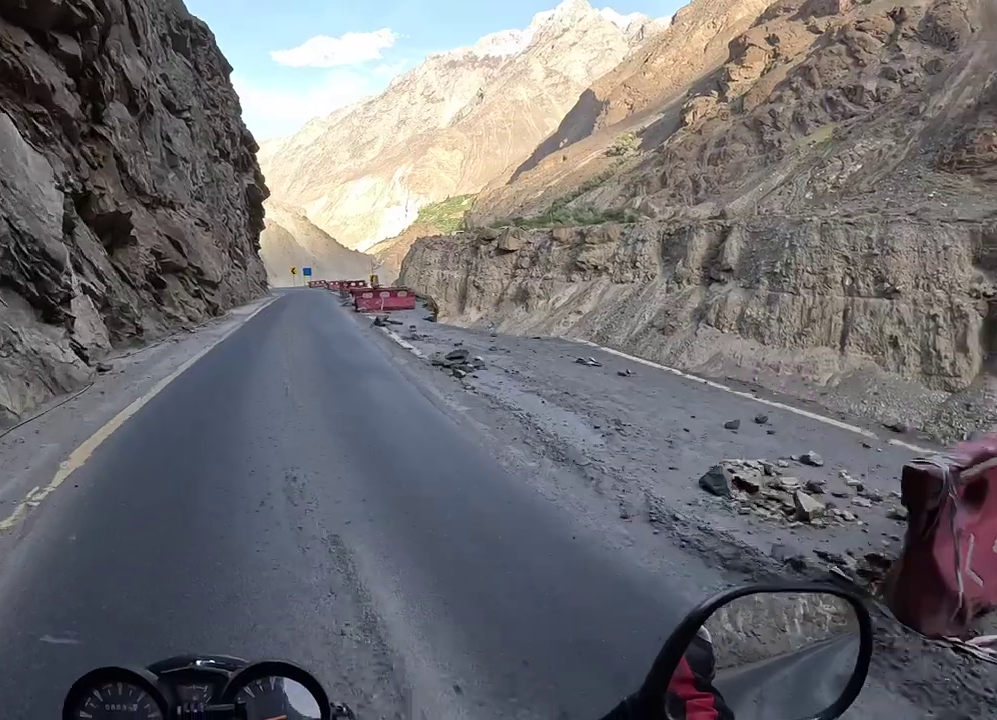unexpected: (276, 249, 818, 511)
